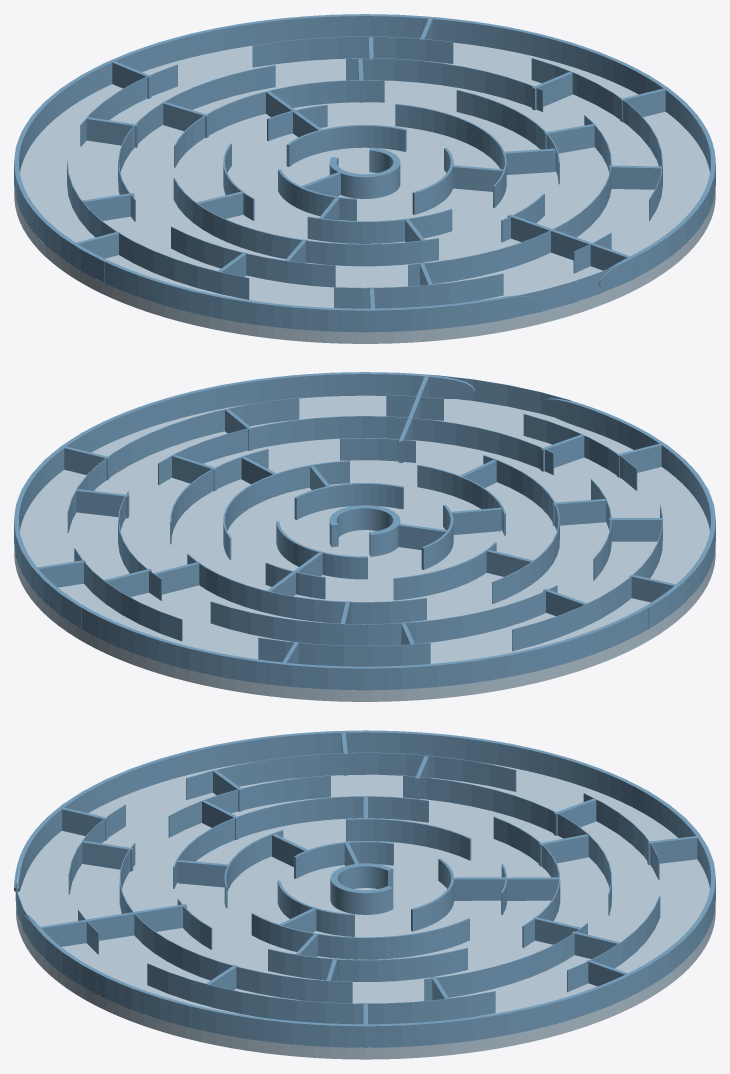
File: maze3.fbx
3 renders of one model, top to bottom at view 1: azimuth 30°, elevation 25°; view 2: azimuth 150°, elevation 25°; view 3: azimuth 270°, elevation 25°, orthographic.
Parts seen in each view (by area): view 1: Cylinder, Cylinder.007, Cylinder.006, Cylinder.005, Cylinder.004, Cylinder.003, Cylinder.008, Cylinder.002, Cylinder.001, Cube.005, Cube.010, Cube.002 (+13 smaller); view 2: Cylinder, Cylinder.007, Cylinder.005, Cylinder.006, Cylinder.004, Cylinder.008, Cylinder.003, Cylinder.002, Cylinder.001, Cube.022, Cube.020, Cube.011 (+14 smaller); view 3: Cylinder, Cylinder.007, Cylinder.006, Cylinder.005, Cylinder.004, Cylinder.003, Cylinder.008, Cylinder.002, Cylinder.001, Cube.006, Cube.016, Cube.004 (+15 smaller).
Boxes of the visible parts, x1,y1,x2,y2 form: Cylinder: [14, 42, 715, 343]; Cylinder.007: [14, 14, 715, 332]; Cylinder.006: [67, 36, 662, 308]; Cylinder.005: [118, 58, 611, 287]; Cylinder.004: [173, 80, 559, 266]; Cylinder.003: [223, 104, 506, 243]; Cylinder.008: [14, 14, 715, 331]; Cylinder.002: [278, 124, 453, 221]; Cylinder.001: [329, 147, 400, 198]; Cube.005: [502, 148, 555, 174]; Cube.010: [609, 165, 661, 189]; Cube.002: [453, 165, 503, 191]; Cylinder: [14, 395, 715, 701]; Cylinder.007: [14, 372, 715, 690]; Cylinder.005: [118, 416, 611, 645]; Cylinder.006: [67, 394, 662, 666]; Cylinder.004: [170, 438, 559, 624]; Cylinder.008: [14, 372, 715, 689]; Cylinder.003: [223, 460, 505, 600]; Cylinder.002: [276, 483, 453, 579]; Cylinder.001: [329, 505, 400, 556]; Cube.022: [609, 518, 661, 541]; Cube.020: [552, 499, 605, 525]; Cube.011: [76, 489, 129, 518]; Cylinder: [16, 762, 715, 1059]; Cylinder.007: [14, 730, 715, 1047]; Cylinder.006: [68, 752, 660, 1024]; Cylinder.005: [119, 775, 611, 1003]; Cylinder.004: [173, 796, 560, 981]; Cylinder.003: [224, 818, 506, 959]; Cylinder.008: [15, 730, 715, 1047]; Cylinder.002: [277, 841, 454, 936]; Cylinder.001: [330, 863, 393, 914]; Cube.006: [177, 860, 230, 887]; Cube.016: [507, 877, 558, 900]; Cube.004: [454, 877, 505, 900].
Size of the model in its own units: 1188 by 62.51 by 1191.
